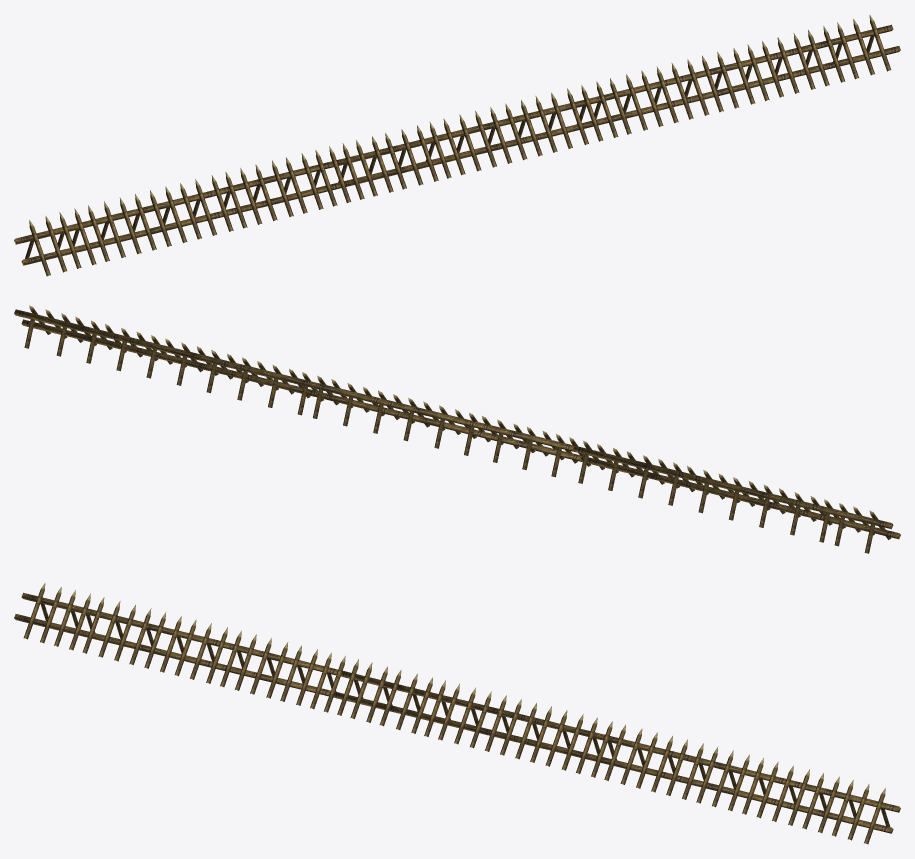
Rendered from bagh_barricade08.glb.
3 views of the same model, one above another, from view 1: azimuth 30°, elevation 25°; view 2: azimuth 150°, elevation 25°; view 3: azimuth 330°, elevation 25° (orthographic).
Visible parts, largest first — view 1: res\bldg\arabia\bagh_city\event\bagh_barricade08.bsr; view 2: res\bldg\arabia\bagh_city\event\bagh_barricade08.bsr; view 3: res\bldg\arabia\bagh_city\event\bagh_barricade08.bsr.
Boxes of the visible parts, x1,y1,x2,y2 form: res\bldg\arabia\bagh_city\event\bagh_barricade08.bsr: (14, 15, 900, 276); res\bldg\arabia\bagh_city\event\bagh_barricade08.bsr: (14, 305, 900, 553); res\bldg\arabia\bagh_city\event\bagh_barricade08.bsr: (14, 583, 900, 844).
Bounding box in the file's own units: 278 × 13.28 × 13.4.
1 material, 1 textured.
